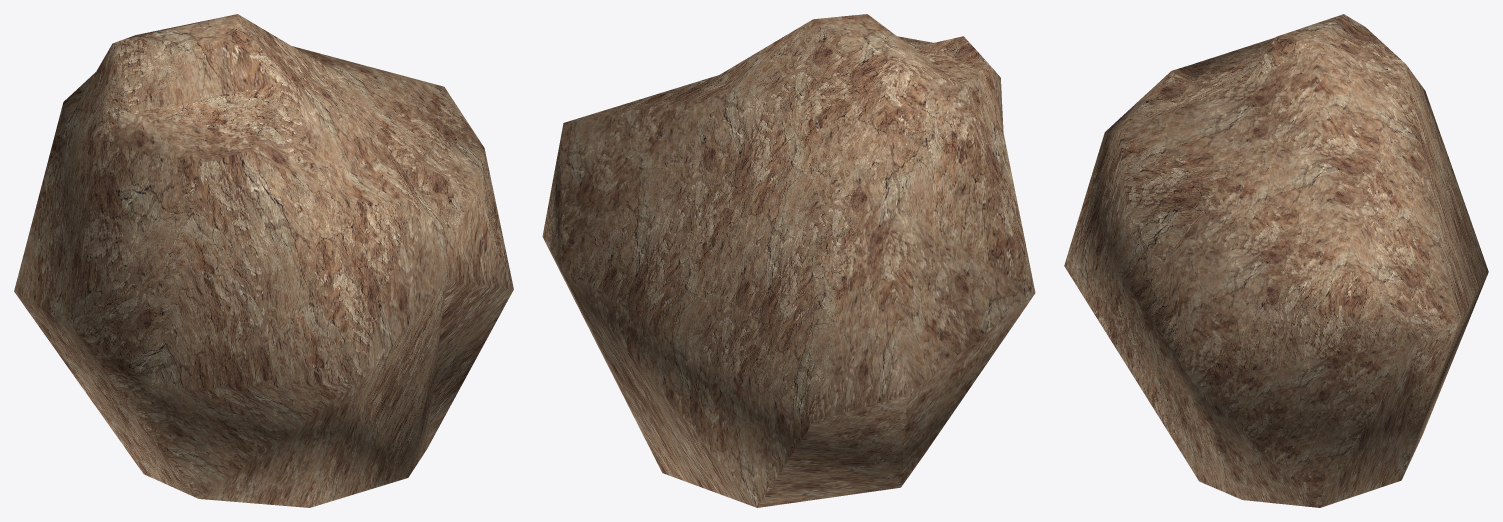
The model's file is rock_tatt_boulder_flat_l2.fbx.
3 views of the same model, side by side, from view 1: azimuth 30°, elevation 25°; view 2: azimuth 150°, elevation 25°; view 3: azimuth 270°, elevation 25° (orthographic). The views are drawn at different scales.
Visible parts, largest first — view 1: mesh_node; view 2: mesh_node; view 3: mesh_node.
Part boxes in pixels (x1=…): mesh_node: x1=14, y1=14, x2=513, y2=507; mesh_node: x1=542, y1=14, x2=1035, y2=507; mesh_node: x1=1064, y1=14, x2=1488, y2=507.
Bounding box in the file's own units: 6.88 × 6.9 × 6.81.
